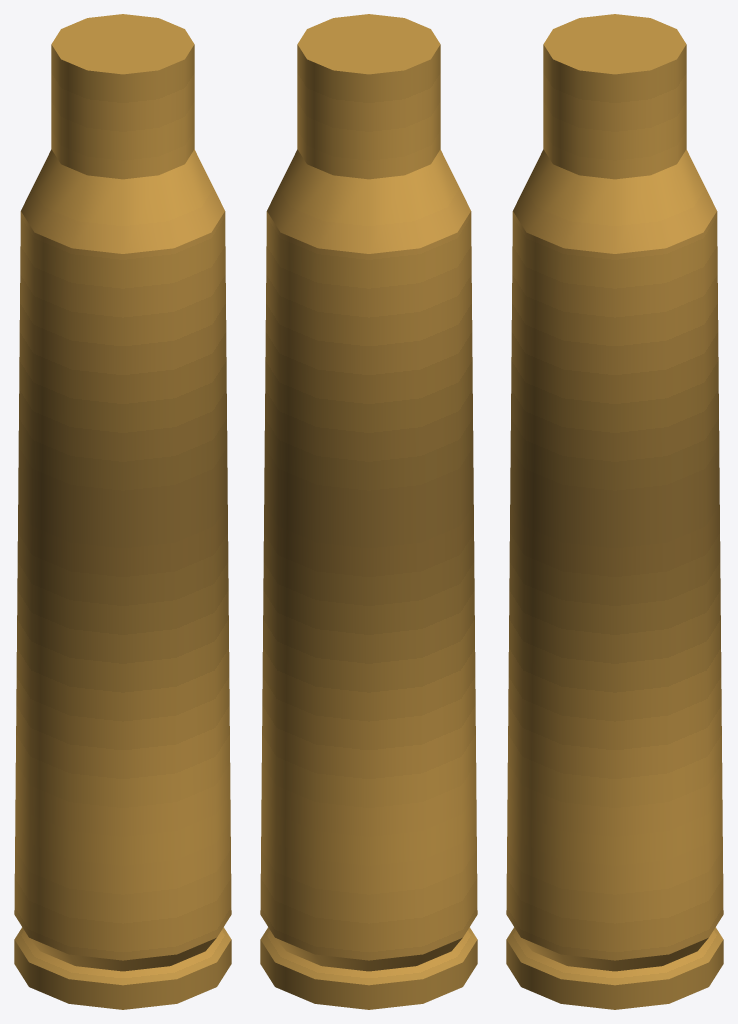
File: rifle.gltf
The picture shows the model from 3 angles, left to right: view 1: azimuth 30°, elevation 25°; view 2: azimuth 150°, elevation 25°; view 3: azimuth 270°, elevation 25°; orthographic projection.
Visible parts, largest first — view 1: rifle; view 2: rifle; view 3: rifle.
Part boxes in pixels (x1,y1,x2,y2): rifle: (14, 14, 231, 1009); rifle: (260, 14, 477, 1009); rifle: (506, 14, 723, 1009).
Size of the model in its own units: 0.00956 by 0.0447 by 0.00956.
Materials: 1 (1 with a texture image).
